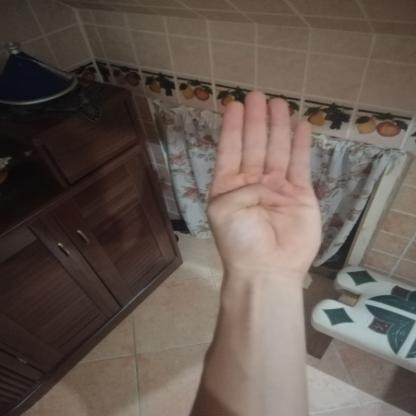KAAF: (193, 82, 335, 287)
